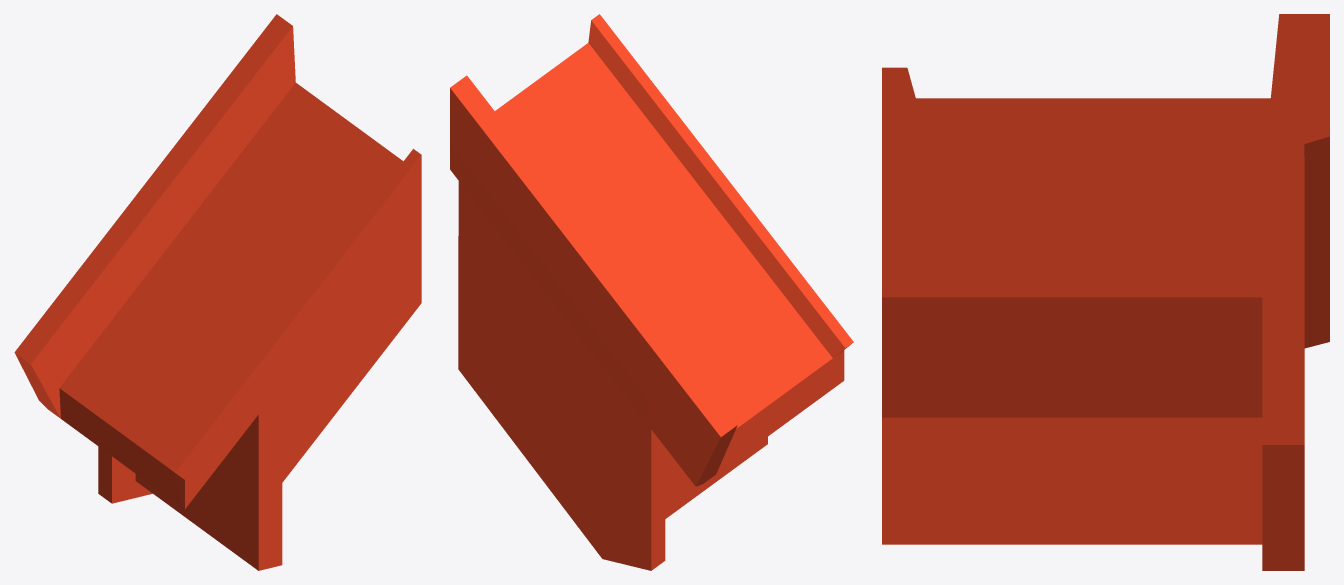
File: roof-metal-regular-edge-front.fbx
3 views of the same model, side by side, from view 1: azimuth 30°, elevation 25°; view 2: azimuth 150°, elevation 25°; view 3: azimuth 270°, elevation 25° (orthographic). The views are drawn at different scales.
Visible parts, largest first — view 1: roof-metal-regular-edge-front; view 2: roof-metal-regular-edge-front; view 3: roof-metal-regular-edge-front.
Part boxes in pixels (x1,y1,x2,y2): roof-metal-regular-edge-front: [14, 14, 421, 570]; roof-metal-regular-edge-front: [450, 14, 853, 570]; roof-metal-regular-edge-front: [882, 14, 1329, 570].
Bounding box in the file's own units: 0.554 × 0.8645 × 0.53.
